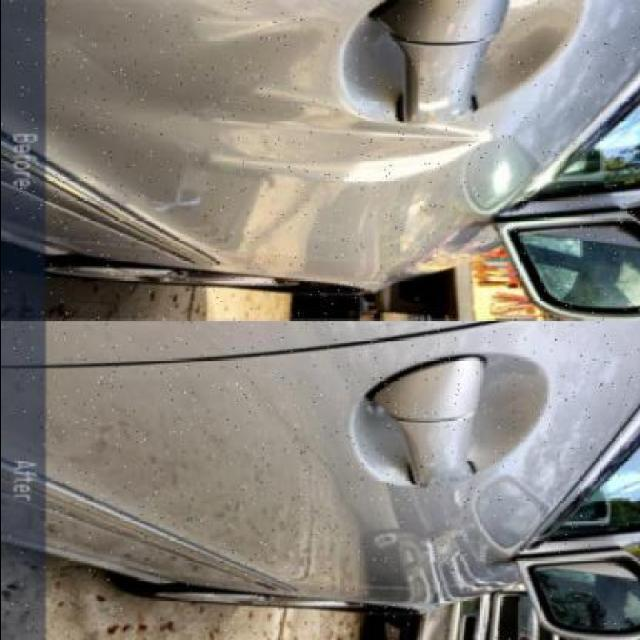doorouter-dent: (3, 2, 619, 239)
